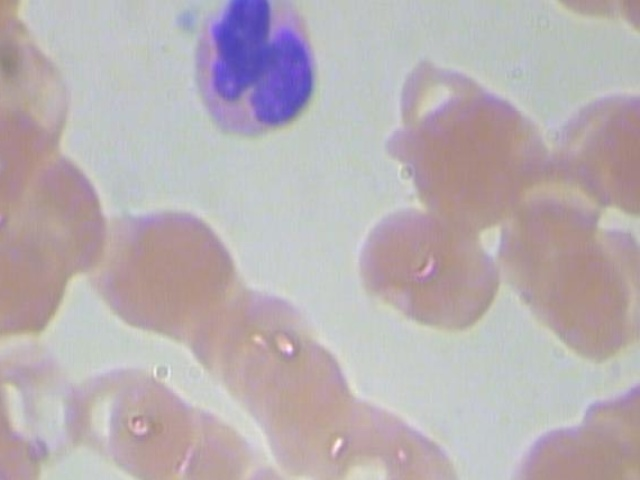Platelets: (171, 4, 200, 36)
WBC: (184, 0, 328, 148)
